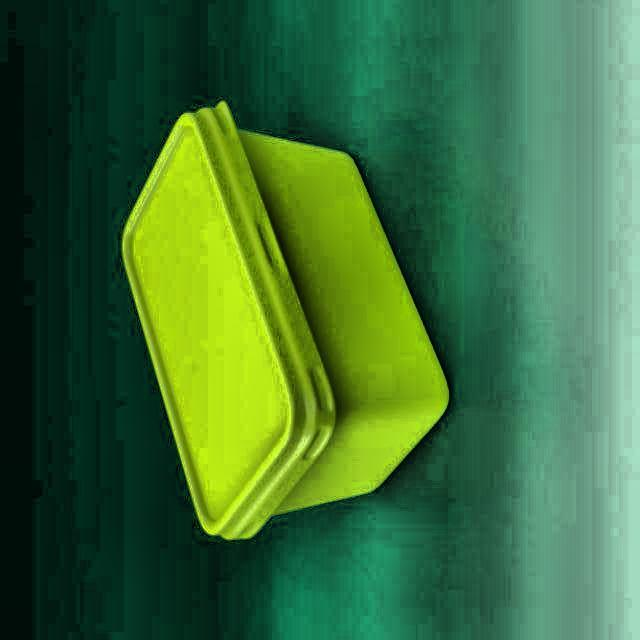plastic: (122, 102, 449, 538)
